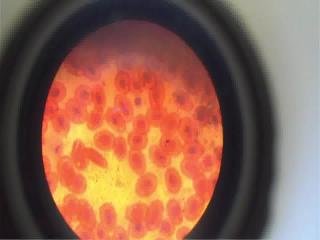cell: (74, 140, 90, 172), (101, 202, 118, 228), (127, 151, 148, 172), (134, 175, 156, 195), (166, 170, 184, 194), (78, 203, 97, 225), (173, 90, 193, 110), (148, 200, 162, 228), (130, 132, 154, 148), (163, 135, 183, 154), (120, 96, 138, 117), (66, 54, 82, 77), (148, 104, 167, 123), (84, 60, 102, 80), (107, 109, 123, 131), (168, 199, 182, 224), (193, 105, 212, 123), (70, 100, 87, 120), (130, 221, 150, 238), (186, 198, 200, 222), (152, 83, 166, 106), (94, 87, 110, 107), (49, 81, 64, 102), (114, 138, 128, 160), (53, 114, 70, 132), (185, 142, 205, 157), (94, 131, 112, 147), (181, 120, 196, 139), (133, 114, 150, 129), (60, 161, 73, 180), (78, 86, 94, 100), (160, 221, 174, 236), (118, 73, 129, 90)
